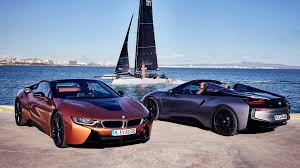car: (7, 74, 154, 158), (137, 67, 293, 143)
